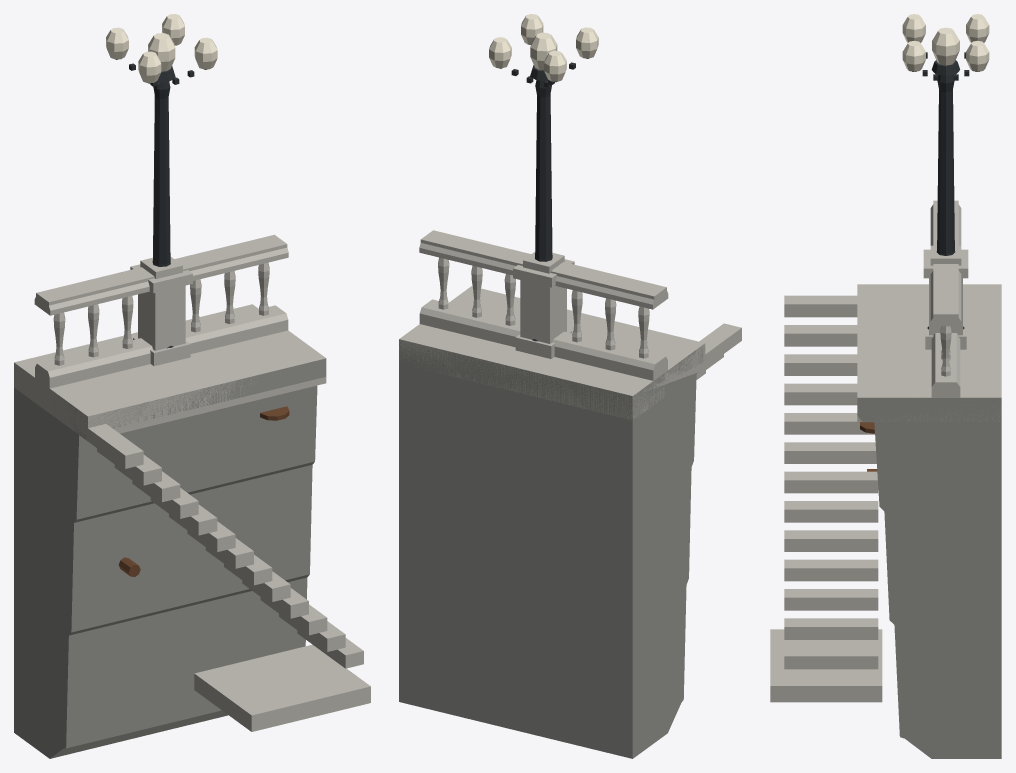
Rendered from embankment_kit.fbx.
The picture shows the model from 3 angles, left to right: view 1: azimuth 30°, elevation 25°; view 2: azimuth 150°, elevation 25°; view 3: azimuth 270°, elevation 25°; orthographic projection. The views are drawn at different scales.
Visible parts, largest first — view 1: quay, quay_step, bal_stone, quay_lamp, bal_pier; view 2: quay, bal_stone, quay_lamp, bal_pier, quay_step; view 3: quay, quay_step, quay_lamp, bal_stone, bal_pier.
Part boxes in pixels (x1=…): quay: x1=14, y1=304, x2=326, y2=758; quay_step: x1=77, y1=421, x2=370, y2=731; bal_stone: x1=34, y1=234, x2=288, y2=388; quay_lamp: x1=106, y1=14, x2=217, y2=348; bal_pier: x1=130, y1=257, x2=192, y2=366; quay: x1=399, y1=286, x2=705, y2=758; bal_stone: x1=419, y1=230, x2=668, y2=380; quay_lamp: x1=489, y1=14, x2=598, y2=341; bal_pier: x1=513, y1=251, x2=574, y2=358; quay_step: x1=696, y1=323, x2=741, y2=379; quay: x1=857, y1=284, x2=1001, y2=758; quay_step: x1=770, y1=295, x2=882, y2=702; quay_lamp: x1=902, y1=14, x2=989, y2=329; bal_stone: x1=930, y1=200, x2=961, y2=397; bal_pier: x1=923, y1=245, x2=968, y2=349.
Bounding box in the file's own units: 300 × 828 × 258.
